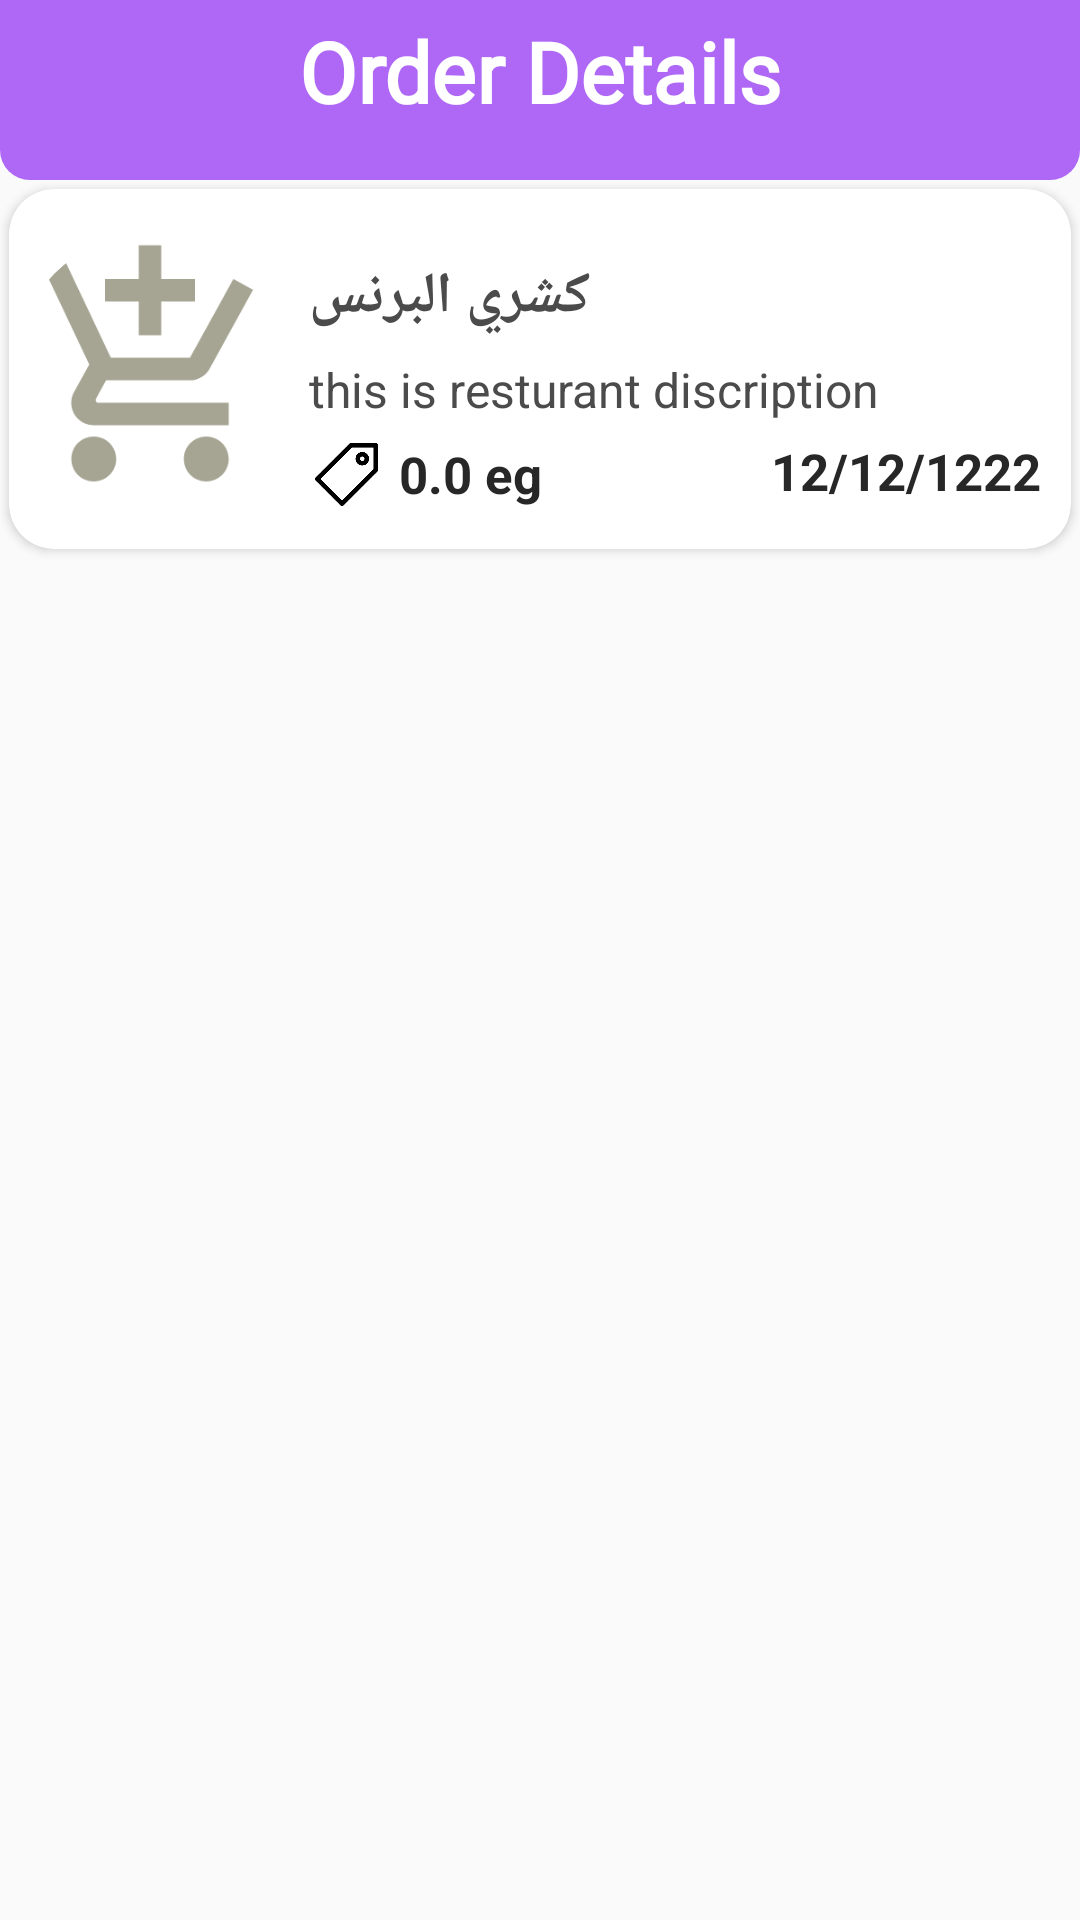

Locate icon controls on the screen. Image size 1080px x 1920px, boxes as Rect(x1, y1, x2, y2).
add shopping cart: Rect(49, 245, 253, 482)
tag: Rect(315, 443, 378, 506)
